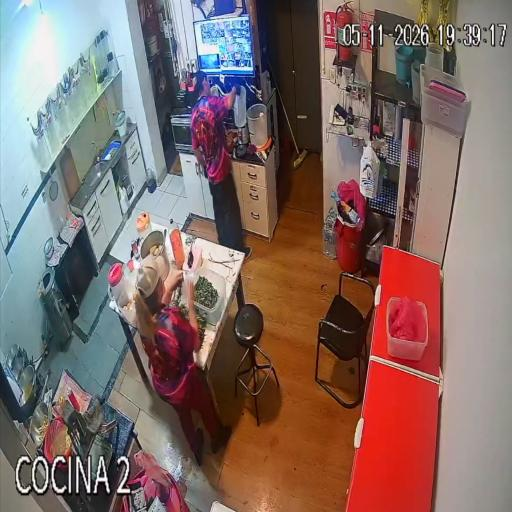Balde: (246, 103, 269, 147)
Envase Ketchup: (66, 389, 81, 410)
Envase Llajua: (59, 395, 66, 412)
Jarra1: (108, 263, 125, 300)
Jarra2: (136, 212, 152, 238)
Microondas: (171, 112, 193, 153)
Persona1: (191, 72, 243, 250)
Persona2: (135, 264, 228, 460)
Taper: (116, 281, 138, 328)
Taper2: (187, 265, 225, 325)
Taper4: (386, 297, 428, 360)
olla1: (141, 230, 169, 280)
